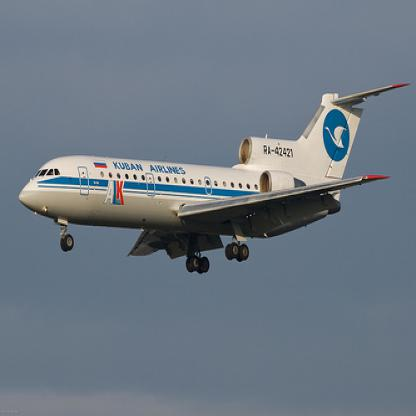aeroplane: (19, 81, 408, 274)
